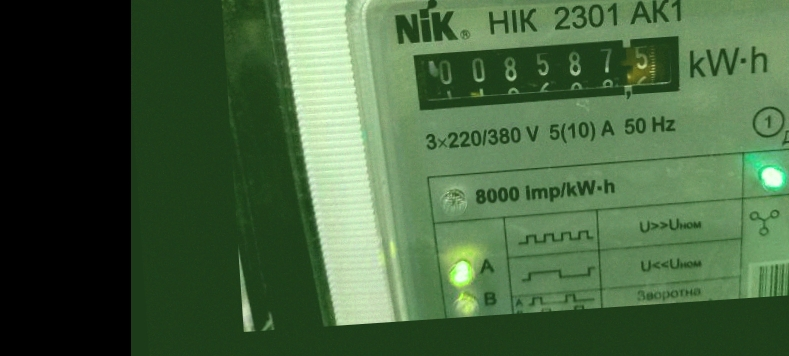0: (436, 55, 455, 85), (470, 54, 489, 83)
5: (634, 42, 653, 72), (534, 49, 553, 78)
7: (598, 44, 617, 75)
8: (566, 47, 585, 78), (502, 53, 520, 82)
screen: (395, 19, 702, 122)
